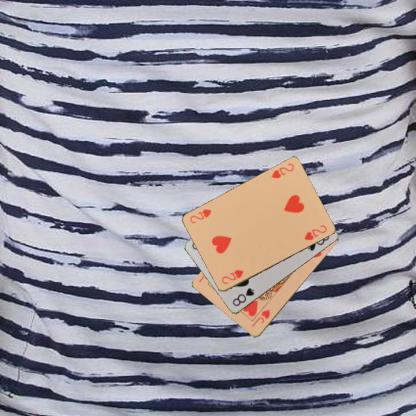2h: (269, 161, 295, 180), (219, 268, 244, 286)
8s: (230, 285, 255, 308)
Jh: (249, 308, 272, 328)
